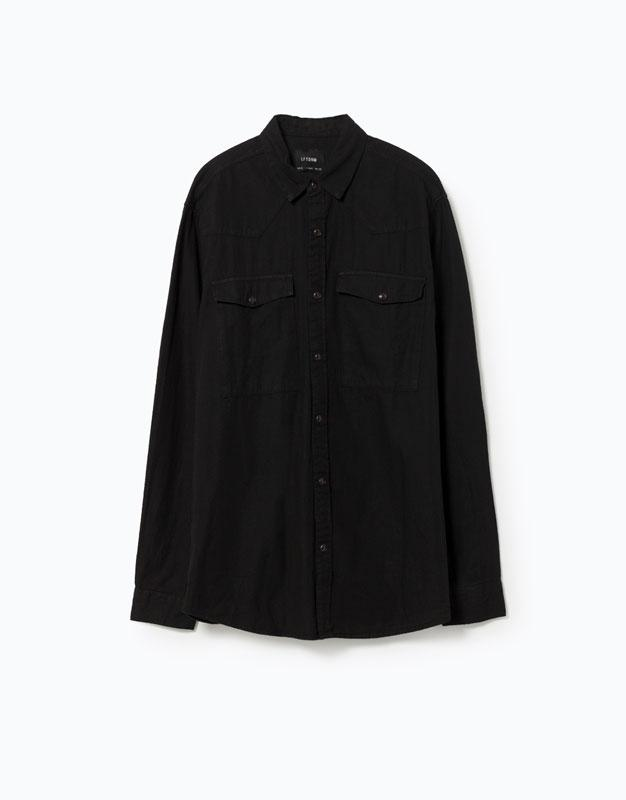teeshirt: (134, 101, 517, 662)
